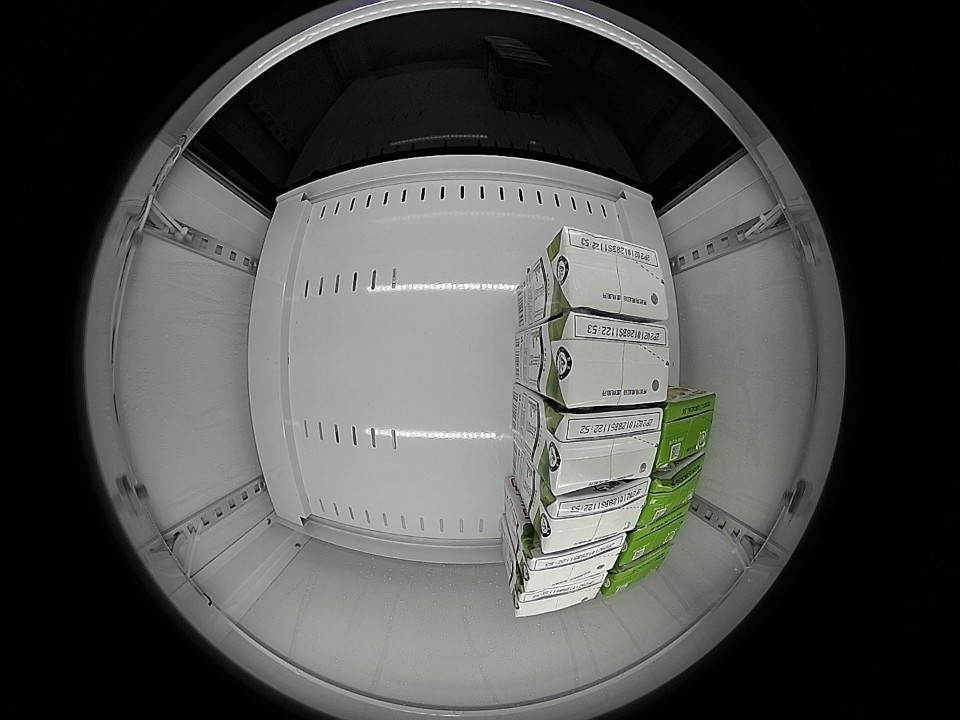mengniu: (549, 312, 671, 409), (547, 225, 671, 319), (544, 405, 665, 495), (536, 476, 651, 555), (520, 534, 627, 592), (511, 572, 608, 617)
mengniuzaocan: (637, 455, 704, 529), (656, 388, 716, 466), (617, 506, 690, 562), (601, 544, 673, 597)
